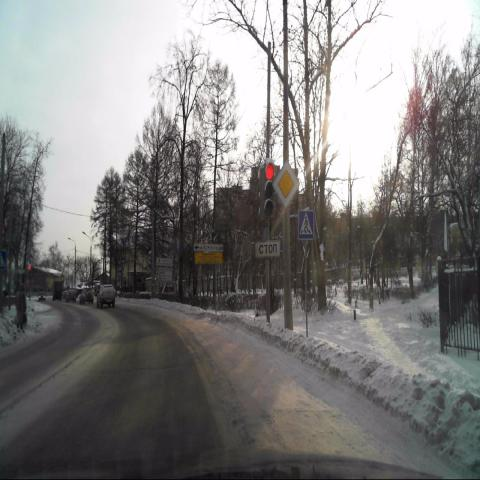6_16: (255, 241, 280, 257)
